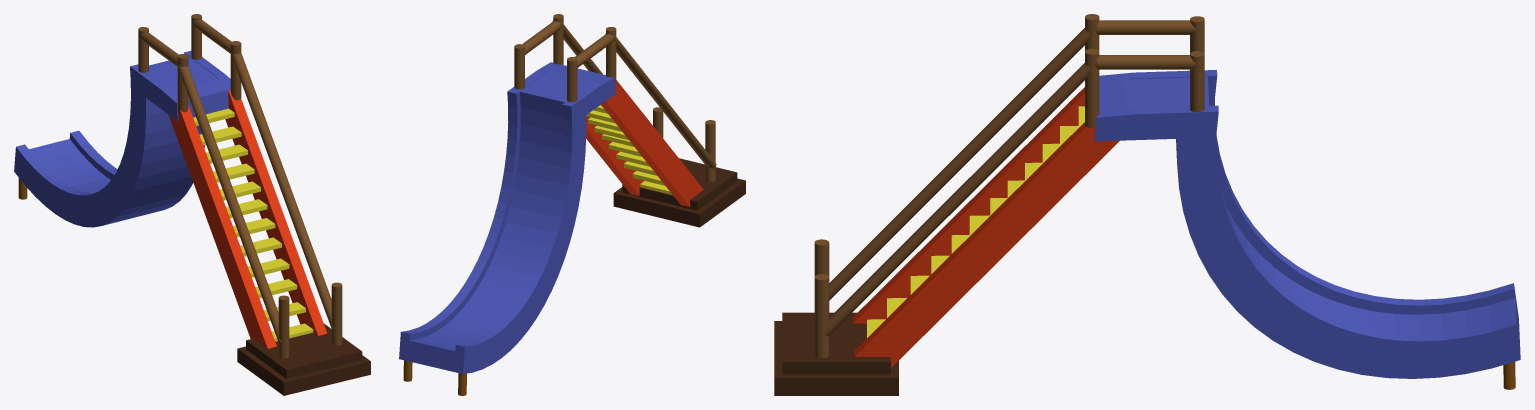
The model's file is perosotan.fbx.
3 renders of one model, left to right at view 1: azimuth 30°, elevation 25°; view 2: azimuth 150°, elevation 25°; view 3: azimuth 270°, elevation 25°, orthographic. The views are drawn at different scales.
Parts seen in each view (by area): view 1: Perosotan; view 2: Perosotan; view 3: Perosotan.
Boxes of the visible parts, x1,y1,x2,y2 form: Perosotan: (14,14,370,395); Perosotan: (399,14,745,395); Perosotan: (774,14,1520,395).
Size of the model in its own units: 572 by 1593 by 3167.
